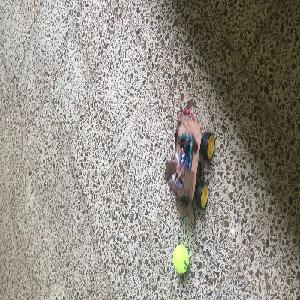Ball: (172, 245, 189, 274)
Robot: (165, 108, 214, 224)
